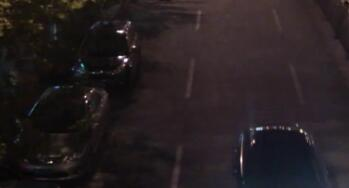car: (7, 82, 104, 179), (235, 121, 328, 184), (73, 19, 144, 88)
